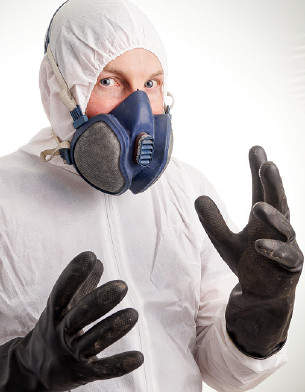face_mask: (74, 37, 174, 188)
